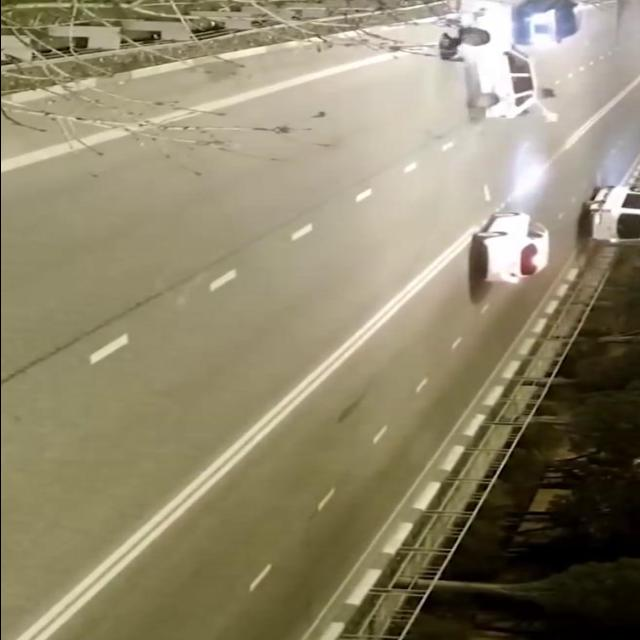accident: (434, 9, 558, 139)
